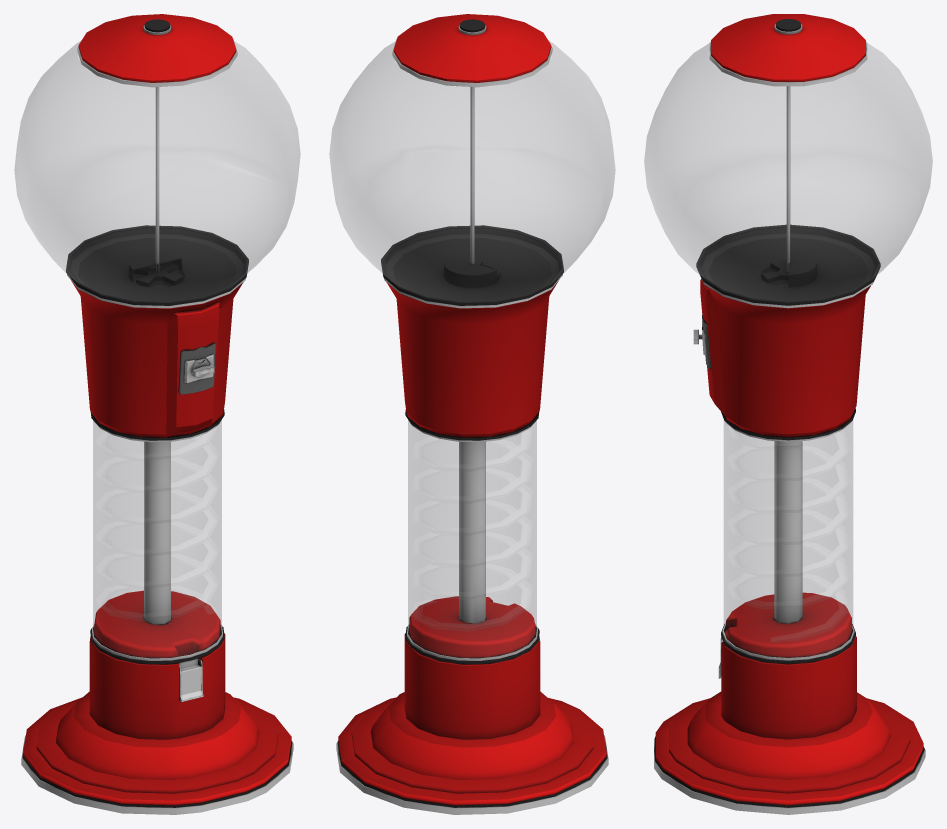
The model's file is gumball_machine_lod2.fbx.
3 renders of one model, left to right at view 1: azimuth 30°, elevation 25°; view 2: azimuth 150°, elevation 25°; view 3: azimuth 270°, elevation 25°, orthographic.
Visible parts, largest first — view 1: polySurface1558, polySurface2033, gumball_low:polySurface1; view 2: polySurface1558, polySurface2033, gumball_low:polySurface1; view 3: polySurface1558, polySurface2033, gumball_low:polySurface1.
Part boxes in pixels (x1,y1,x2,y2): polySurface1558: (21, 14, 293, 814); polySurface2033: (14, 41, 300, 657); gumball_low:polySurface1: (27, 143, 288, 286); polySurface1558: (336, 14, 608, 814); polySurface2033: (329, 41, 615, 657); gumball_low:polySurface1: (341, 144, 600, 282); polySurface1558: (654, 14, 925, 814); polySurface2033: (644, 43, 932, 657); gumball_low:polySurface1: (656, 142, 920, 286).
Bounding box in the file's own units: 36.06 × 101 × 36.05.
